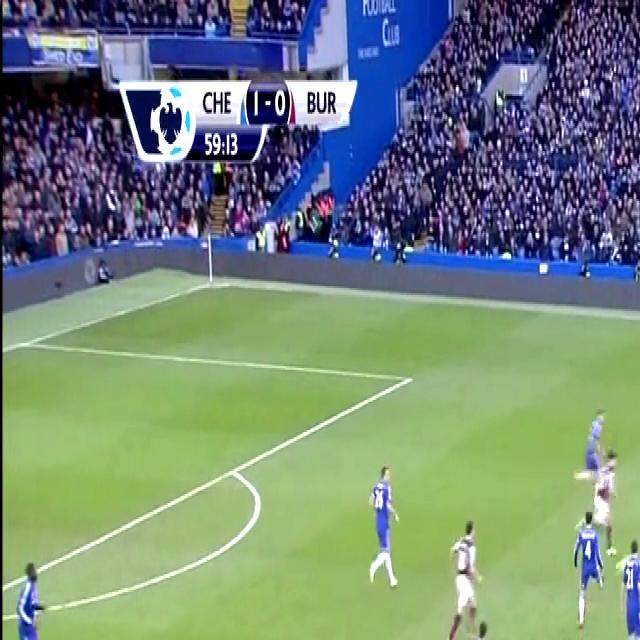soccer-player: (359, 451, 405, 600), (443, 506, 488, 640), (566, 506, 604, 636), (571, 393, 609, 495), (588, 441, 620, 560), (8, 547, 47, 640), (611, 528, 640, 640), (445, 615, 498, 640)
